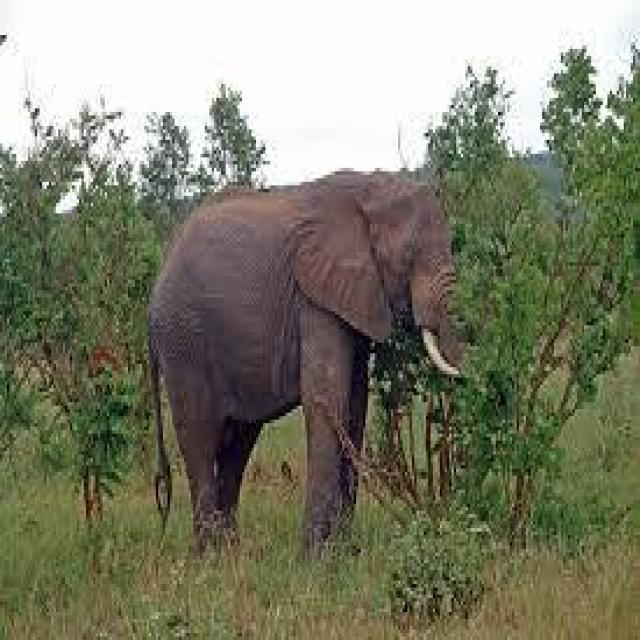Elephant: (144, 161, 463, 552)
